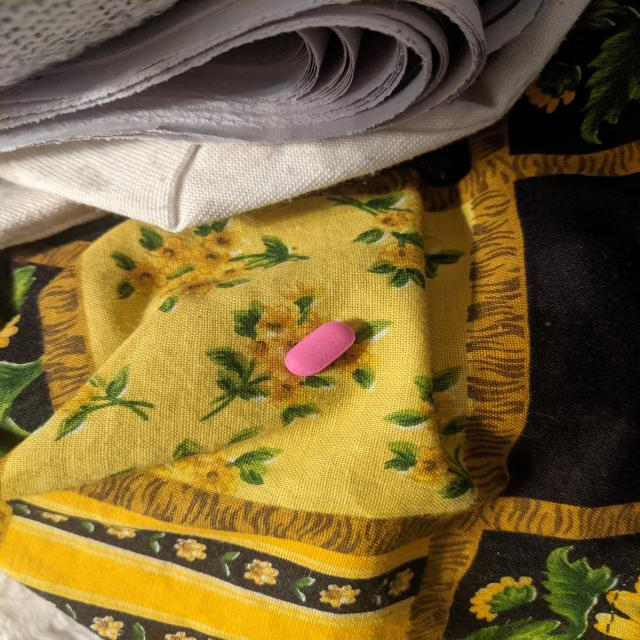non-organic waste: (284, 321, 356, 377)
